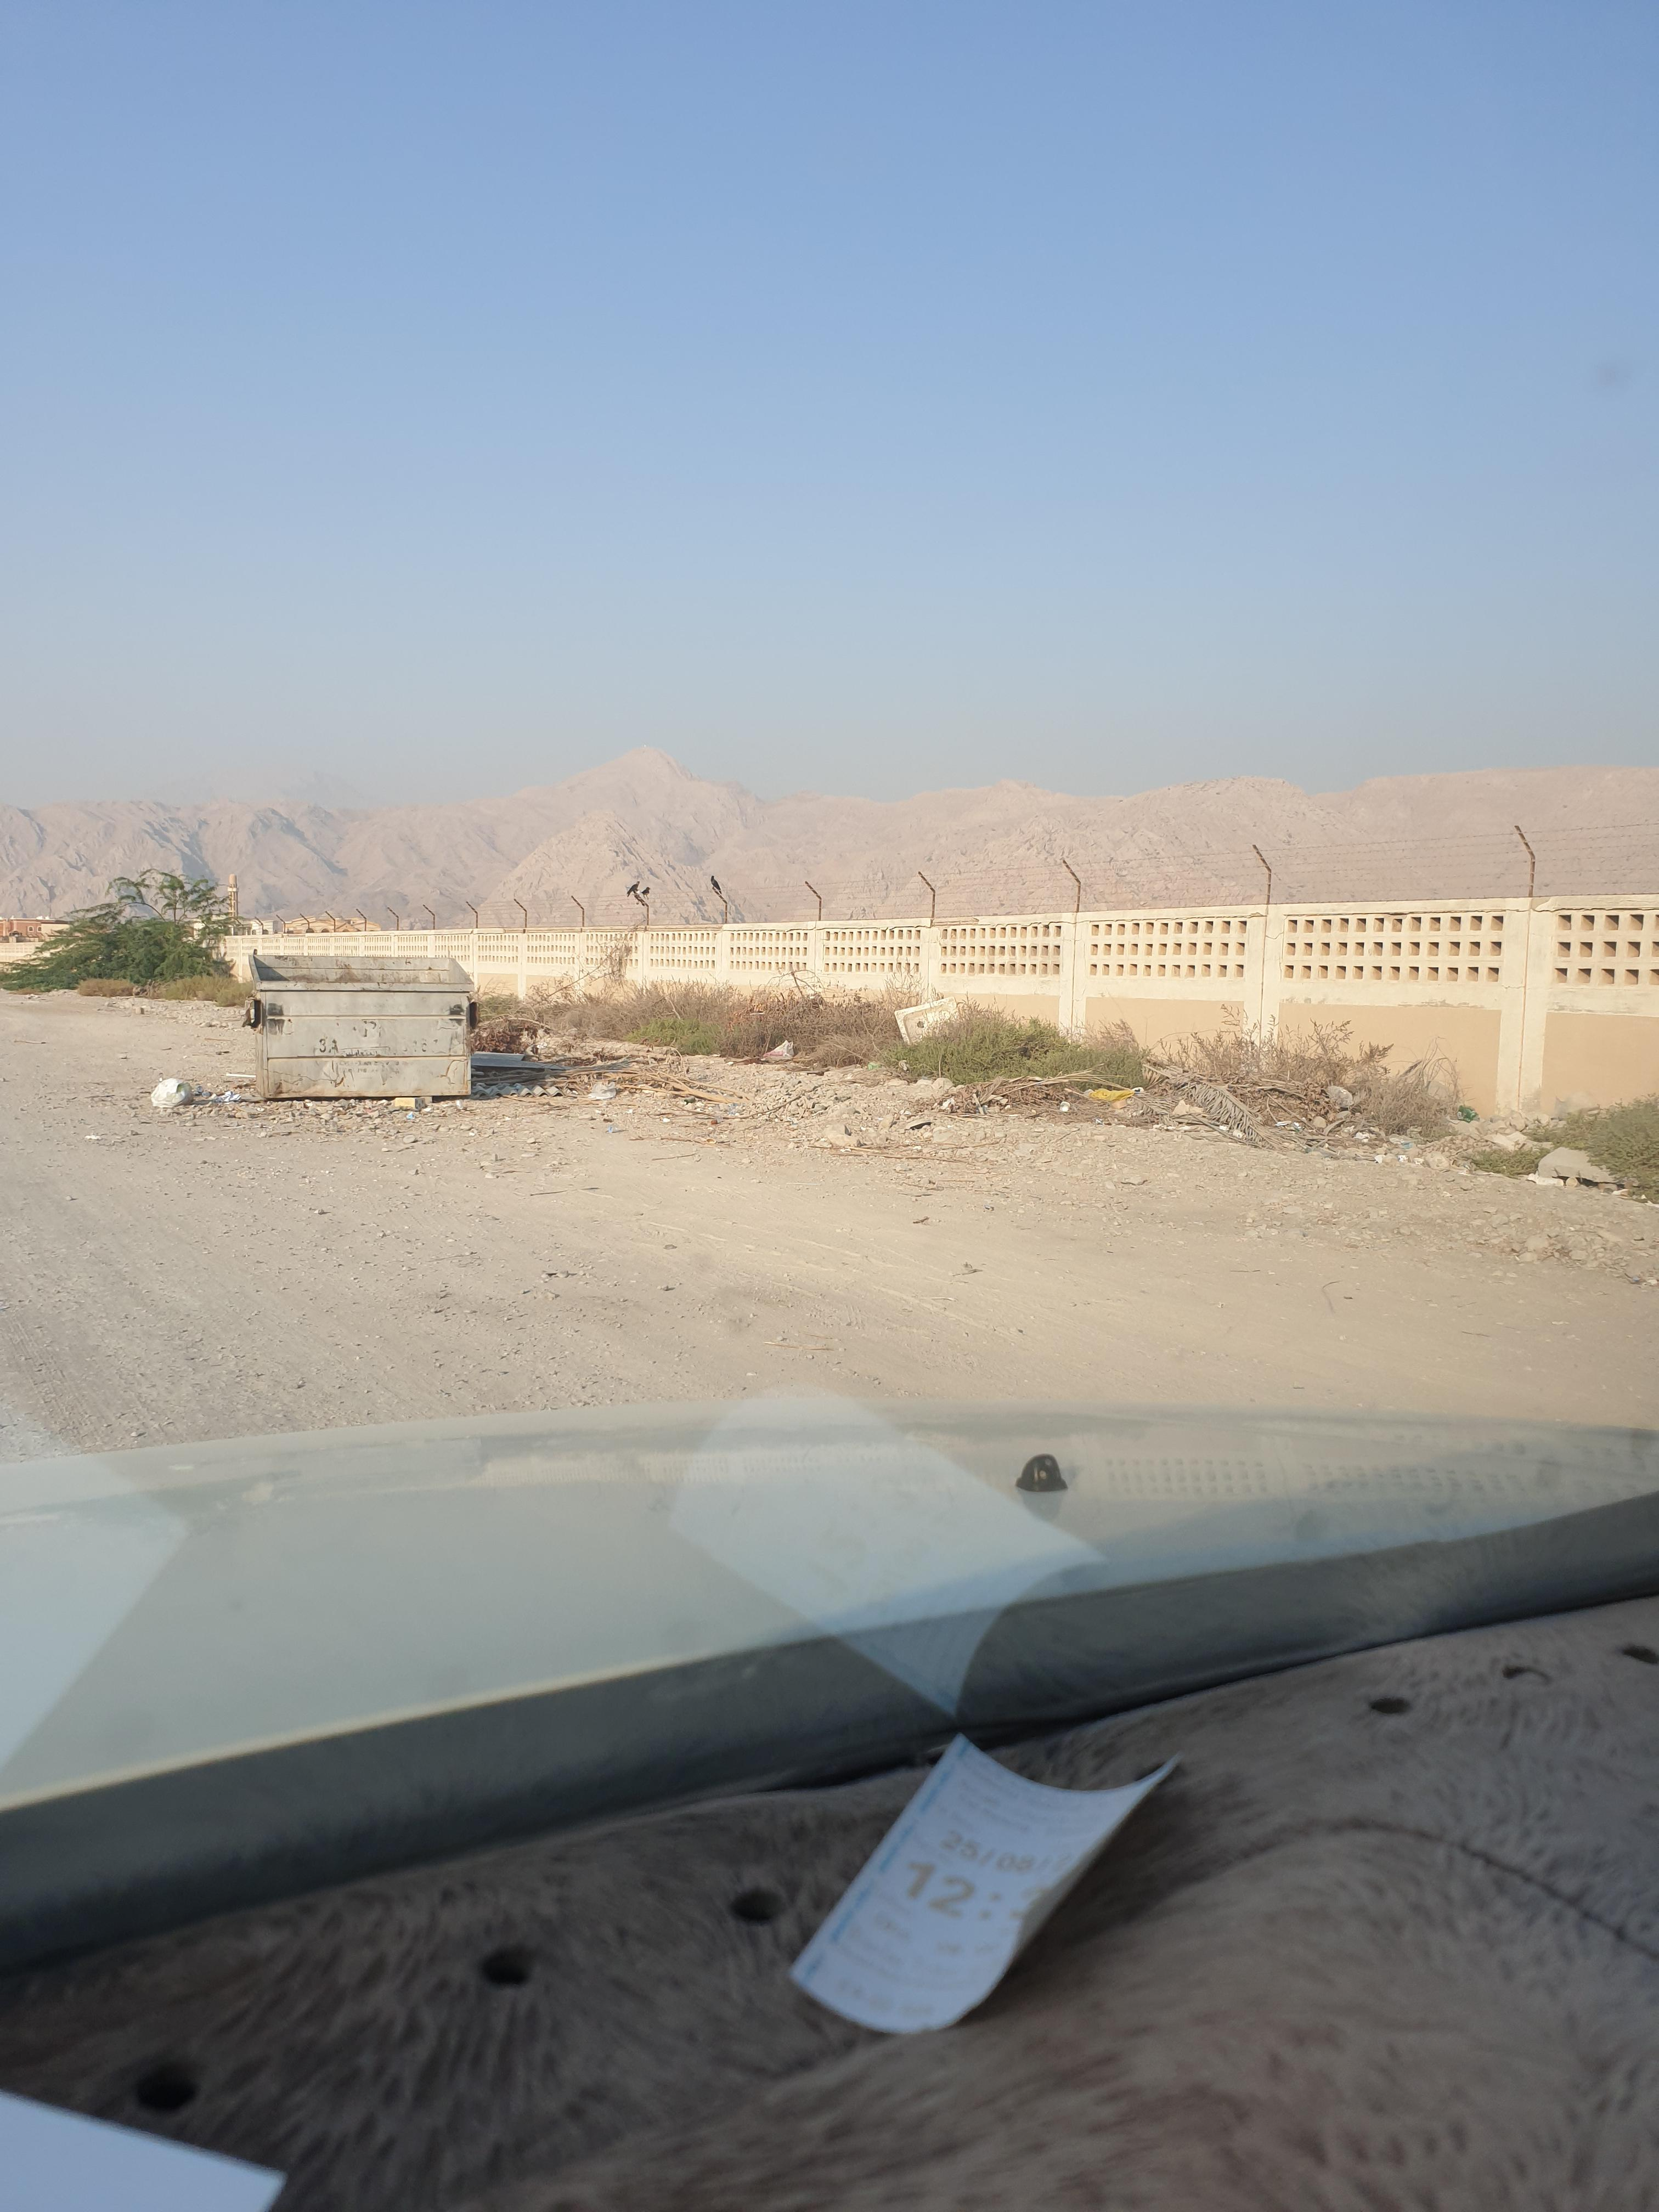fallen_trees: (1138, 1066, 1279, 1151), (945, 1061, 1117, 1122), (584, 1054, 755, 1108)
